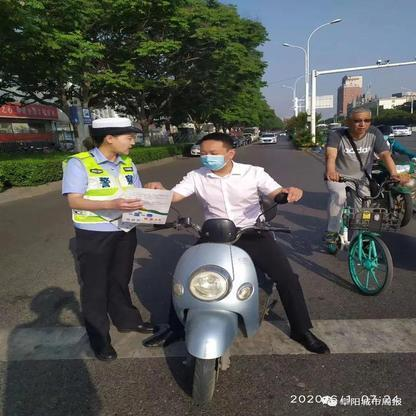target: (144, 132, 330, 404)
